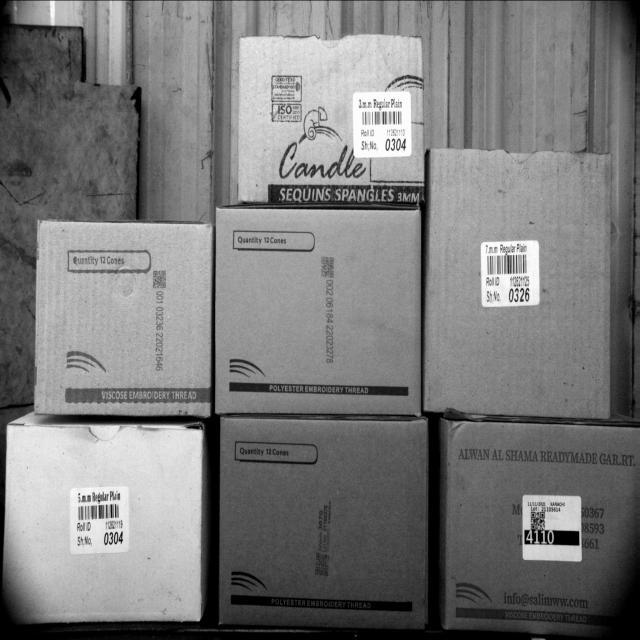box: (424, 152, 614, 418), (215, 204, 422, 416), (221, 416, 431, 624), (446, 420, 640, 639), (0, 424, 203, 624), (38, 215, 212, 421), (238, 37, 423, 208)
